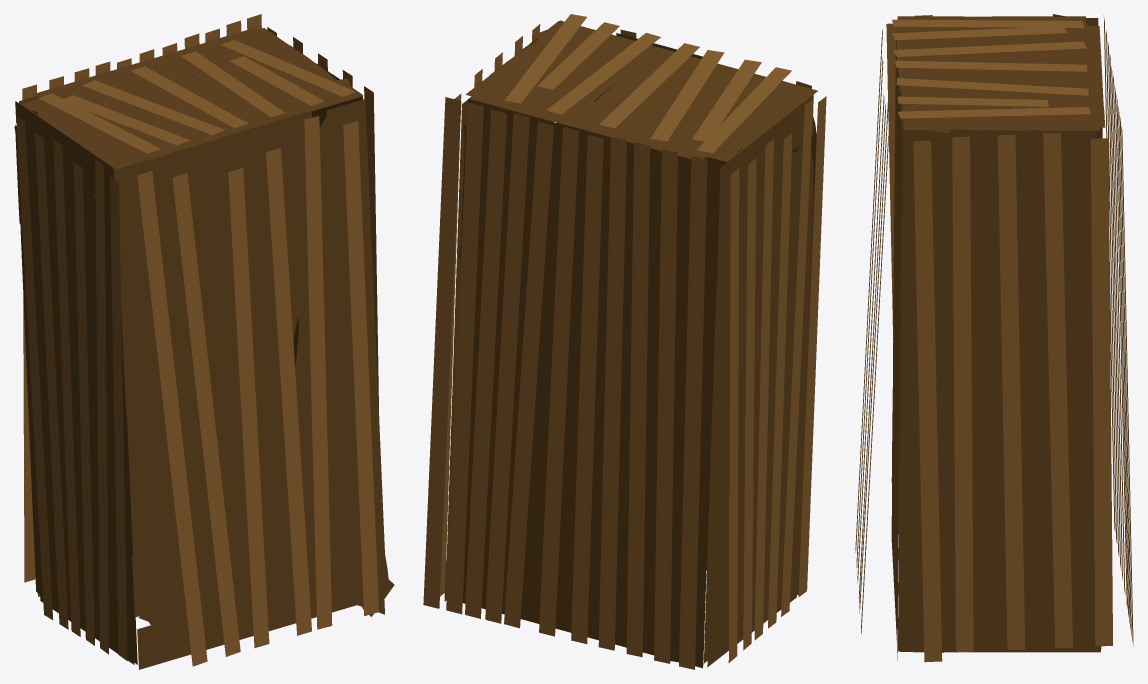
3 views of the same model, side by side, from view 1: azimuth 30°, elevation 25°; view 2: azimuth 150°, elevation 25°; view 3: azimuth 270°, elevation 25° (orthographic).
Visible parts, largest first — view 1: Flat_geo; view 2: Flat_geo; view 3: Flat_geo.
Boxes of the visible parts, x1=… form: Flat_geo: x1=14, y1=14, x2=394, y2=669; Flat_geo: x1=423, y1=14, x2=826, y2=669; Flat_geo: x1=855, y1=14, x2=1133, y2=662.
Size of the model in its own units: 0.3424 by 0.6044 by 0.2832.
